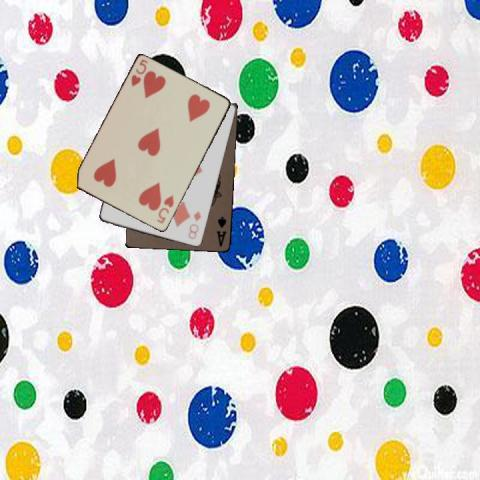5h: (154, 192, 175, 225), (128, 57, 149, 88)
8d: (185, 208, 203, 241)
As: (214, 214, 228, 248)
